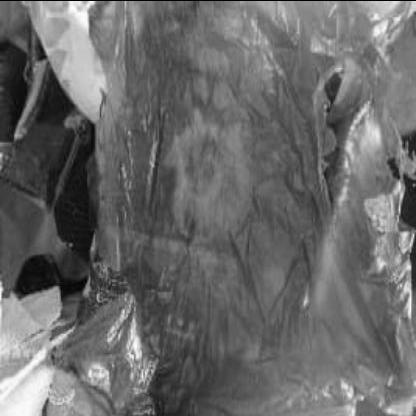objects: (63, 2, 409, 416)
